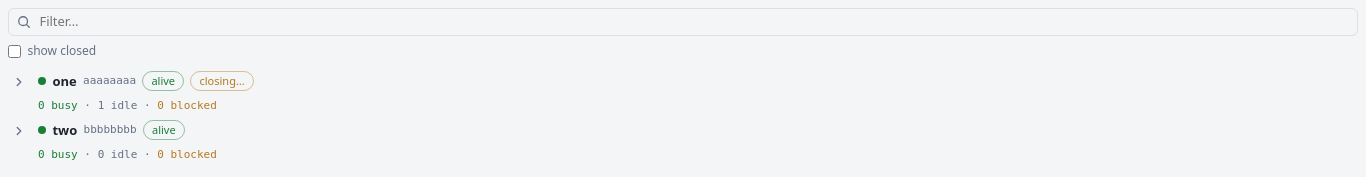
CorralList extras › closing pill and tree filter
Expected: the text "closing…" is shown, [190,71,254,91]
Type "worker" into the search field with test id "tree-filter". click: (693, 22)
box: [37,11,1349,33]
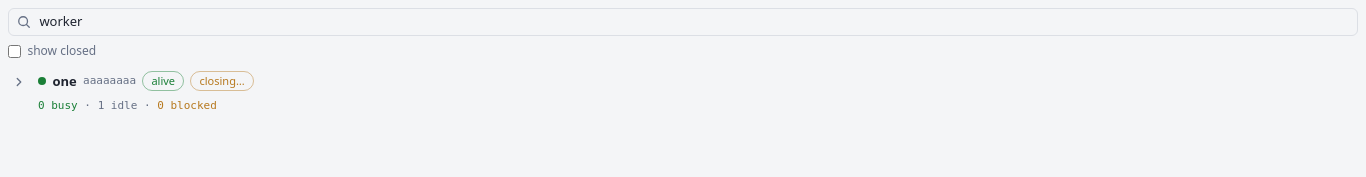
Now the list item with test id "tree-corral-bbbbbbbb" is gone
Replace the text in the search field with test id "tree-filter" with "zzz". click: (693, 22)
box: [37,11,1349,33]
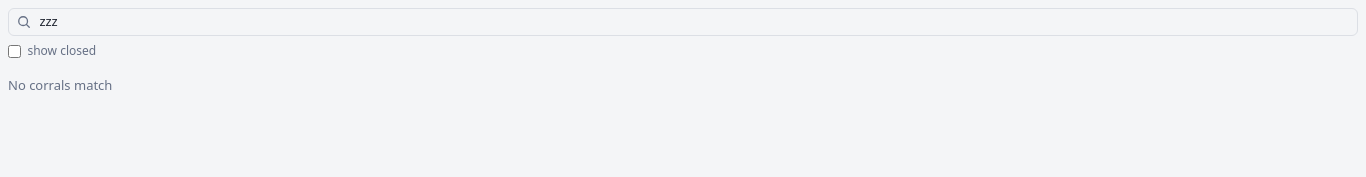
Now the text with test id "tree-empty" shows "match", box [71,76,112,94]
